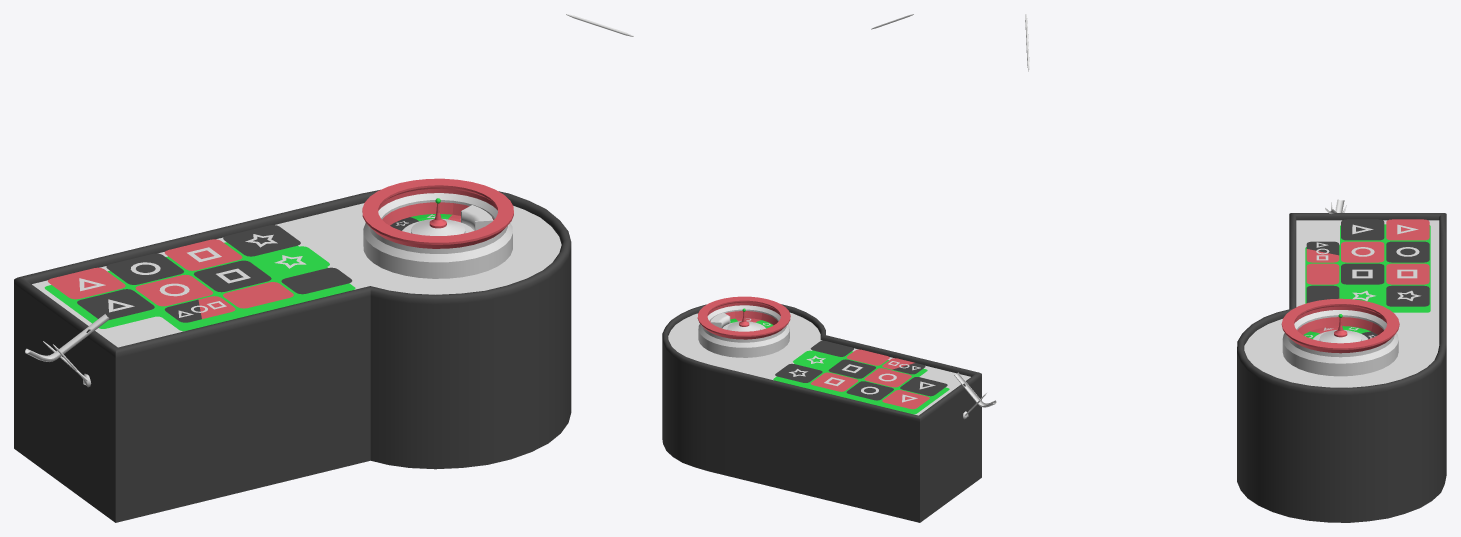
The model's file is Roulette.fbx.
The picture shows the model from 3 angles, left to right: view 1: azimuth 30°, elevation 25°; view 2: azimuth 150°, elevation 25°; view 3: azimuth 270°, elevation 25°; orthographic projection. The views are drawn at different scales.
Visible parts, largest first — view 1: Table.002, Table.003, Cylinder.015; view 2: Table.002, Table.003, Cylinder.015; view 3: Table.002, Table.003, Cylinder.015.
Part boxes in pixels (bbox=[...]): Table.002: bbox=[14, 189, 571, 522]; Table.003: bbox=[48, 225, 352, 322]; Cylinder.015: bbox=[362, 178, 513, 278]; Table.002: bbox=[662, 304, 981, 522]; Table.003: bbox=[775, 340, 947, 409]; Cylinder.015: bbox=[697, 296, 790, 357]; Table.002: bbox=[1237, 213, 1446, 522]; Table.003: bbox=[1306, 219, 1429, 306]; Cylinder.015: bbox=[1281, 298, 1399, 376].
Bounding box in the file's own units: 6.02 × 6.15 × 5.37.
